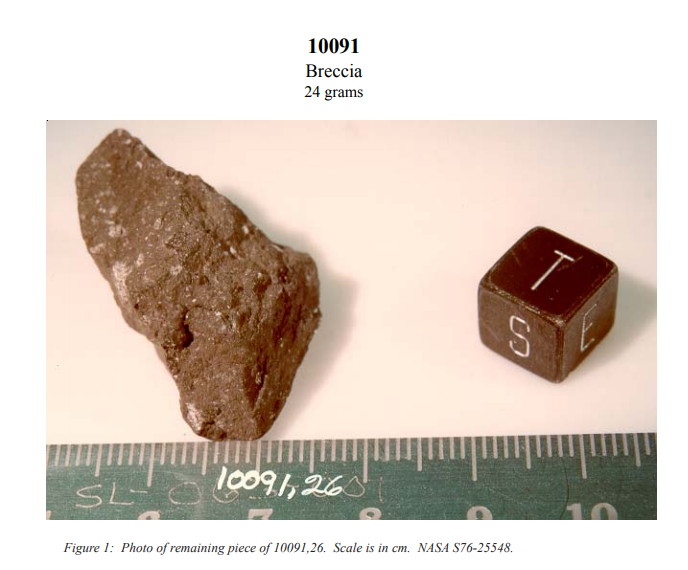Breccia: (51, 122, 327, 435)
